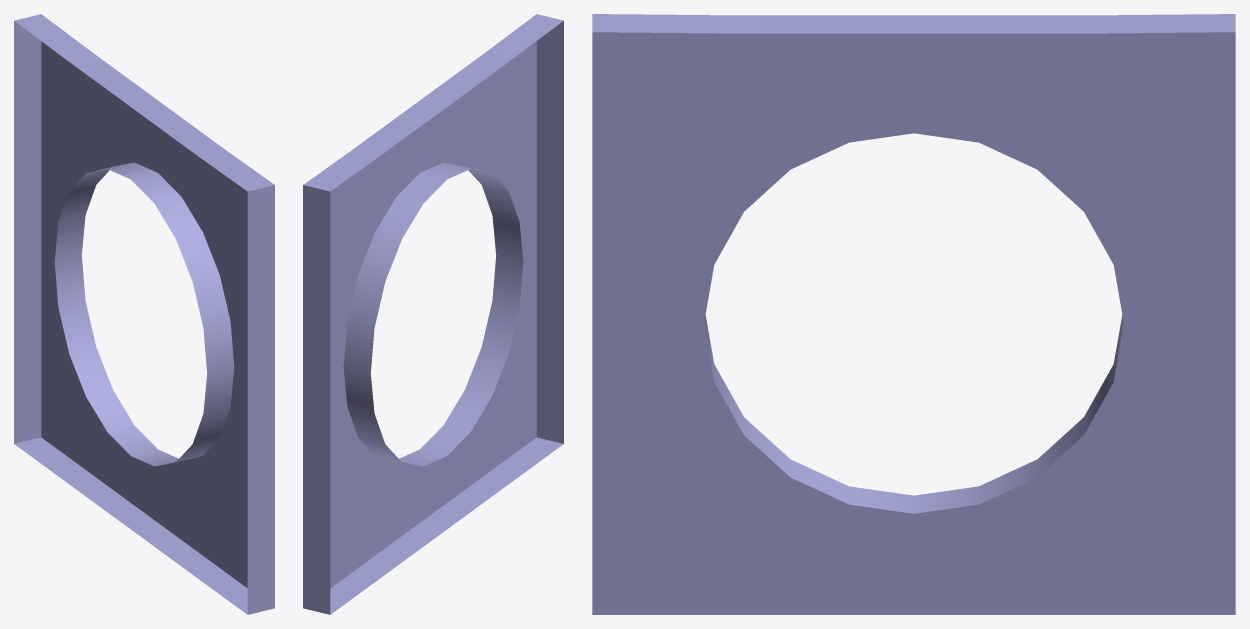
Rendered from SM_Pipes_WallHole.fbx.
The picture shows the model from 3 angles, left to right: view 1: azimuth 30°, elevation 25°; view 2: azimuth 150°, elevation 25°; view 3: azimuth 270°, elevation 25°; orthographic projection. The views are drawn at different scales.
Visible parts, largest first — view 1: SM_Pipes_WallHole; view 2: SM_Pipes_WallHole; view 3: SM_Pipes_WallHole.
Part boxes in pixels (x1,y1,x2,y2): SM_Pipes_WallHole: [14, 14, 274, 614]; SM_Pipes_WallHole: [303, 14, 563, 614]; SM_Pipes_WallHole: [592, 14, 1235, 614].
Bounding box in the file's own units: 33.56 × 500 × 500.
